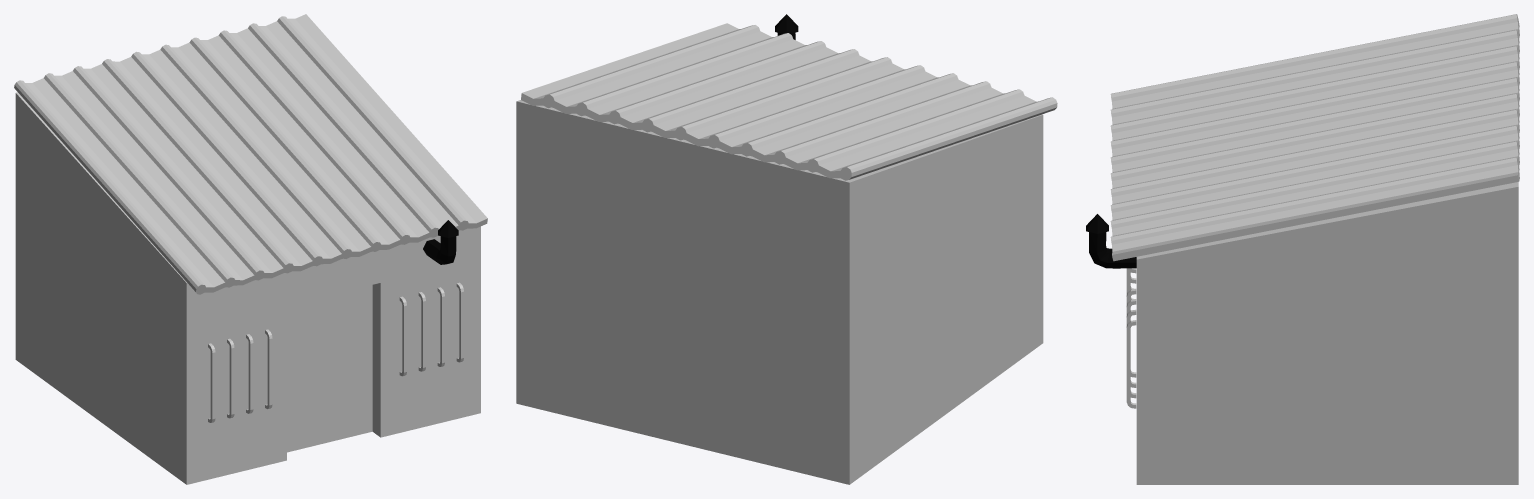
The model's file is house4.obj.
The picture shows the model from 3 angles, left to right: view 1: azimuth 30°, elevation 25°; view 2: azimuth 150°, elevation 25°; view 3: azimuth 270°, elevation 25°; orthographic projection. The views are drawn at different scales.
Parts seen in each view (by area): view 1: mesh_0, mesh_4, mesh_2, mesh_1, mesh_3; view 2: mesh_0, mesh_4; view 3: mesh_0, mesh_4, mesh_3, mesh_1.
Part boxes in pixels (x1,y1,x2,y2): mesh_0: [15, 92, 480, 484]; mesh_4: [14, 14, 487, 294]; mesh_2: [287, 285, 372, 452]; mesh_1: [208, 282, 463, 422]; mesh_3: [423, 220, 458, 264]; mesh_0: [516, 100, 1043, 484]; mesh_4: [521, 23, 1057, 180]; mesh_0: [1136, 182, 1518, 484]; mesh_4: [1110, 14, 1519, 261]; mesh_3: [1086, 214, 1136, 268]; mesh_1: [1126, 268, 1136, 408].
Size of the model in its own units: 1.11 by 1 by 1.26.
